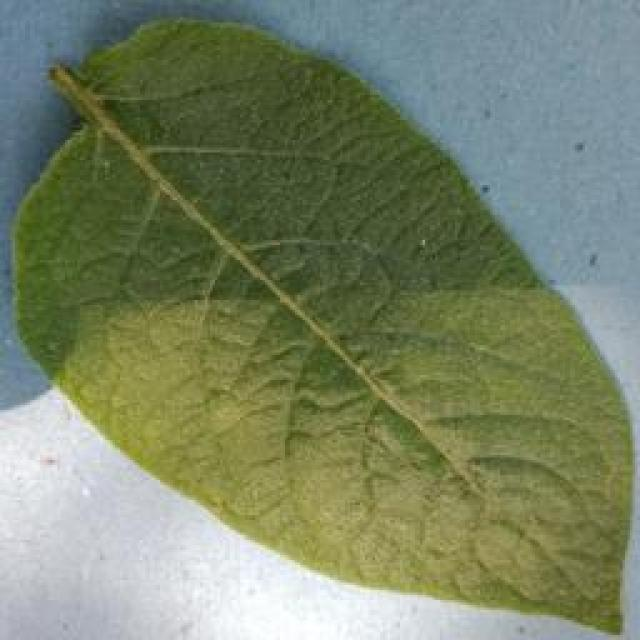Potato_Healthy: (12, 17, 623, 635)
